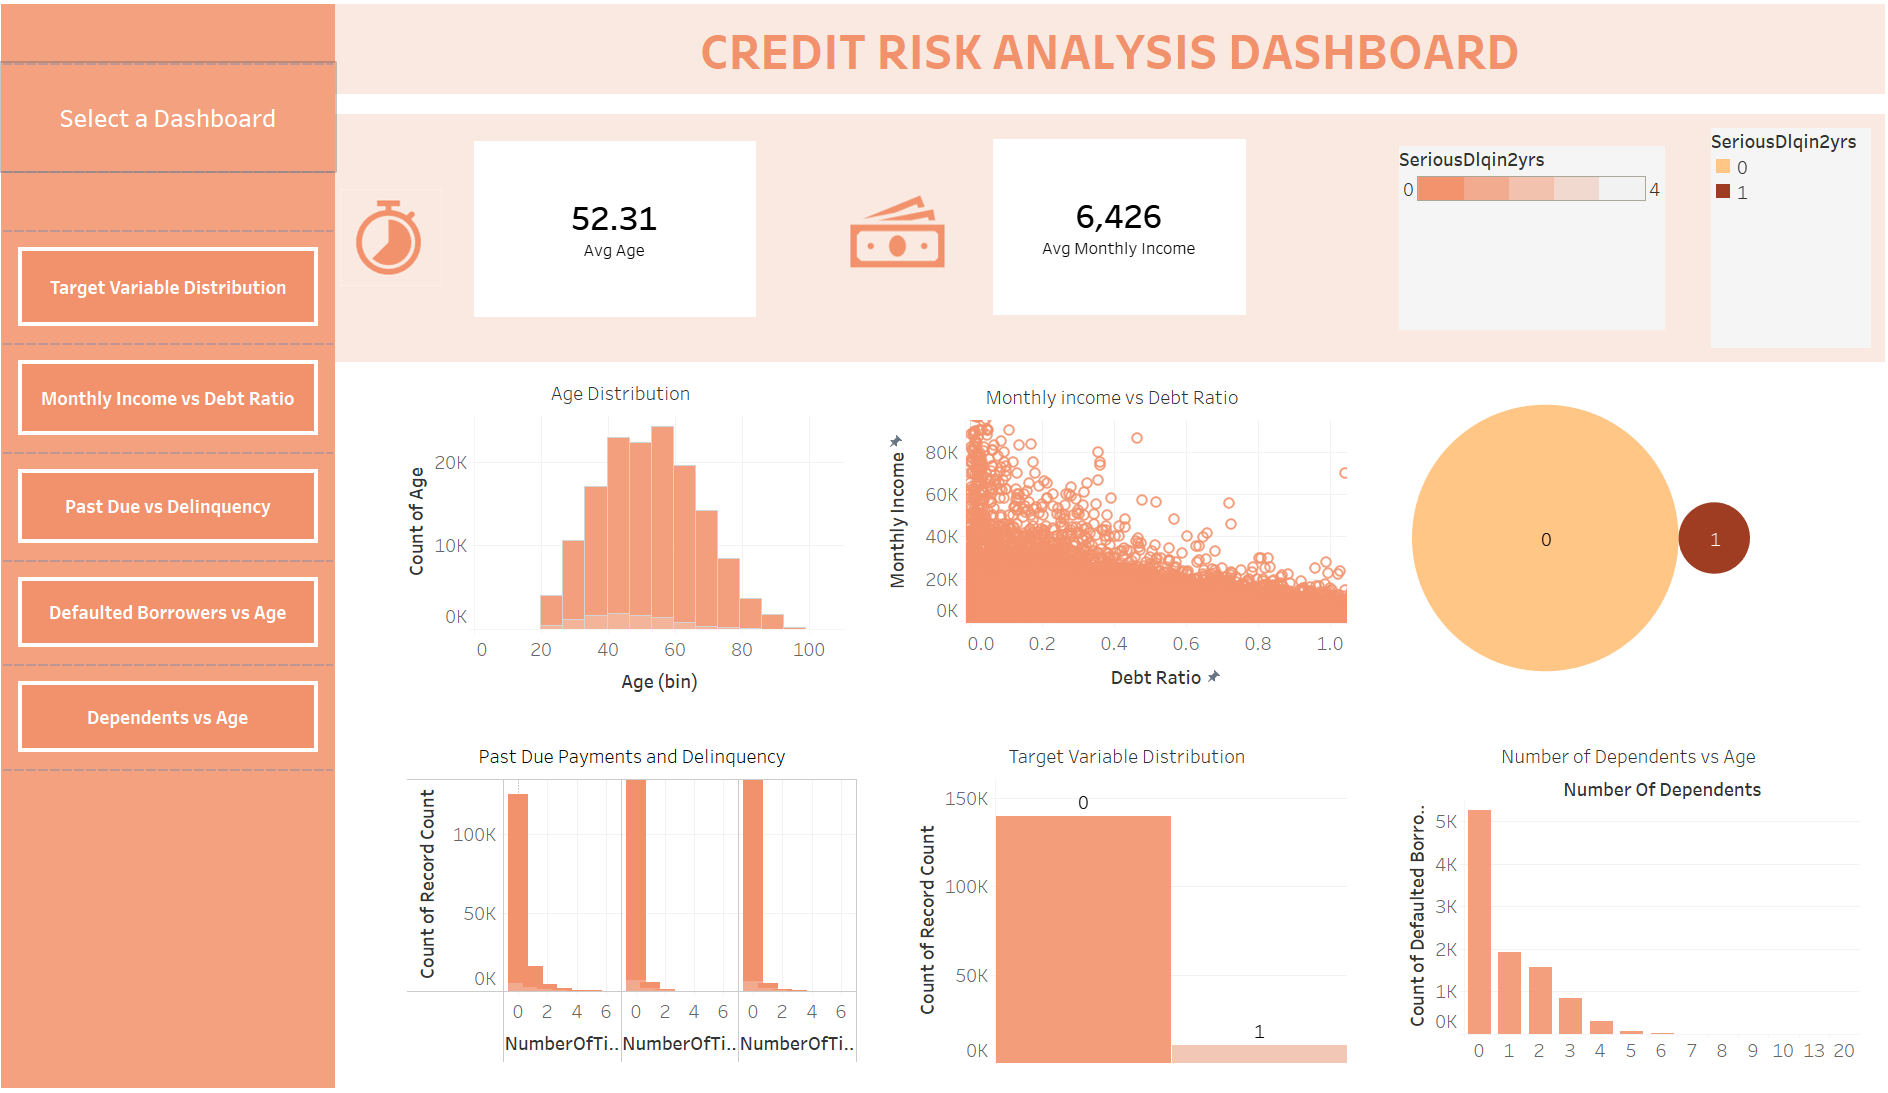

This screenshot's page, from the dashboard's own definition file:
{"tool":"tableau","page":{"name":"Credit Risk Analysis Dashboard","canvas":[1900,1100],"ordinal":0},"visuals":[{"type":"blank","box":[8,8,334,59]},{"type":"text","box":[342,8,1550,90]},{"type":"text","box":[8,67,334,108]},{"type":"image","param":"C:/Users/prana/OneDrive/Documents/Data Analytics Projects/Credit Risk Analysis/S","box":[342,118,112.2,248]},{"type":"worksheet","title":"Average Age","mark":"Square","box":[454.2,118,380,248]},{"type":"image","param":"C:/Users/prana/OneDrive/Documents/Data Analytics Projects/Credit Risk Analysis/S","box":[834.2,118,141,248]},{"type":"worksheet","title":"Avg Monthly Income","mark":"Square","box":[975.2,118,398.8,248]},{"type":"legend","title":"Age Distribution","param":"[federated.0pmzs2k0r1hcwm15mq80h0n2m6bg].[none:SeriousDlqin2yrs:qk]","box":[1374,118,330,248]},{"type":"legend","title":"Total Past Due by Serious Delinquency","param":"[federated.0pmzs2k0r1hcwm15mq80h0n2m6bg].[none:SeriousDlqin2yrs:ok]","box":[1704,118,188,248]},{"type":"blank","box":[8,175,334,59]},{"type":"dashboard-object","box":[8,234,334,113]},{"type":"dashboard-object","box":[8,347,334,109]},{"type":"blank","box":[342,366,47,726]},{"type":"worksheet","title":"Age Distribution","mark":"Automatic","rows":["age"],"cols":["Age (bin)"],"box":[389,366,477.1,352]},{"type":"worksheet","title":"Monthly income vs Debt Ratio","mark":"Automatic","rows":["MonthlyIncome"],"cols":["DebtRatio"],"box":[866.1,366,506.1,352]},{"type":"blank","box":[1372.2,366,40,352]},{"type":"worksheet","title":"Total Past Due by Serious Delinquency","mark":"Circle","box":[1412.2,366,448,352]},{"type":"dashboard-object","box":[8,456,334,108]},{"type":"dashboard-object","box":[8,564,334,104]},{"type":"dashboard-object","box":[8,668,334,105]},{"type":"worksheet","title":"Past Due Payments and Delinquency","mark":"Bar","rows":["Calculation_994451097833373696"],"cols":["NumberOfTime30-59DaysPastDueNotWorse","NumberOfTime60-89DaysPastDueNotWorse","NumberOfTimes90DaysLate"],"box":[389,718,500,374]},{"type":"worksheet","title":"Target Variable Distribution","mark":"Bar","rows":["Calculation_994451097833373696"],"cols":["SeriousDlqin2yrs"],"box":[889,718,490,374]},{"type":"worksheet","title":"Number of Dependents vs Age","mark":"Automatic","rows":["Calculation_994451098590208004"],"cols":["NumberOfDependents"],"box":[1379,718,512.8,374]}]}

Visuals, with their boxes in screenshot pixels (x1, y1, x2, y2), scaled from the page's 1900x1100 canvas onto the 1888x1093 screenshot:
blank: Rect(8, 8, 340, 67)
text: Rect(340, 8, 1880, 97)
text: Rect(8, 67, 340, 174)
image: Rect(340, 117, 451, 364)
"Average Age" worksheet (Square marks): Rect(451, 117, 829, 364)
image: Rect(829, 117, 969, 364)
"Avg Monthly Income" worksheet (Square marks): Rect(969, 117, 1365, 364)
"Age Distribution" legend: Rect(1365, 117, 1693, 364)
"Total Past Due by Serious Delinquency" legend: Rect(1693, 117, 1880, 364)
blank: Rect(8, 174, 340, 233)
dashboard-object: Rect(8, 233, 340, 345)
dashboard-object: Rect(8, 345, 340, 453)
blank: Rect(340, 364, 387, 1085)
"Age Distribution" worksheet: Rect(387, 364, 861, 713)
"Monthly income vs Debt Ratio" worksheet: Rect(861, 364, 1364, 713)
blank: Rect(1364, 364, 1403, 713)
"Total Past Due by Serious Delinquency" worksheet (Circle marks): Rect(1403, 364, 1848, 713)
dashboard-object: Rect(8, 453, 340, 560)
dashboard-object: Rect(8, 560, 340, 664)
dashboard-object: Rect(8, 664, 340, 768)
"Past Due Payments and Delinquency" worksheet (Bar marks): Rect(387, 713, 883, 1085)
"Target Variable Distribution" worksheet (Bar marks): Rect(883, 713, 1370, 1085)
"Number of Dependents vs Age" worksheet: Rect(1370, 713, 1880, 1085)
